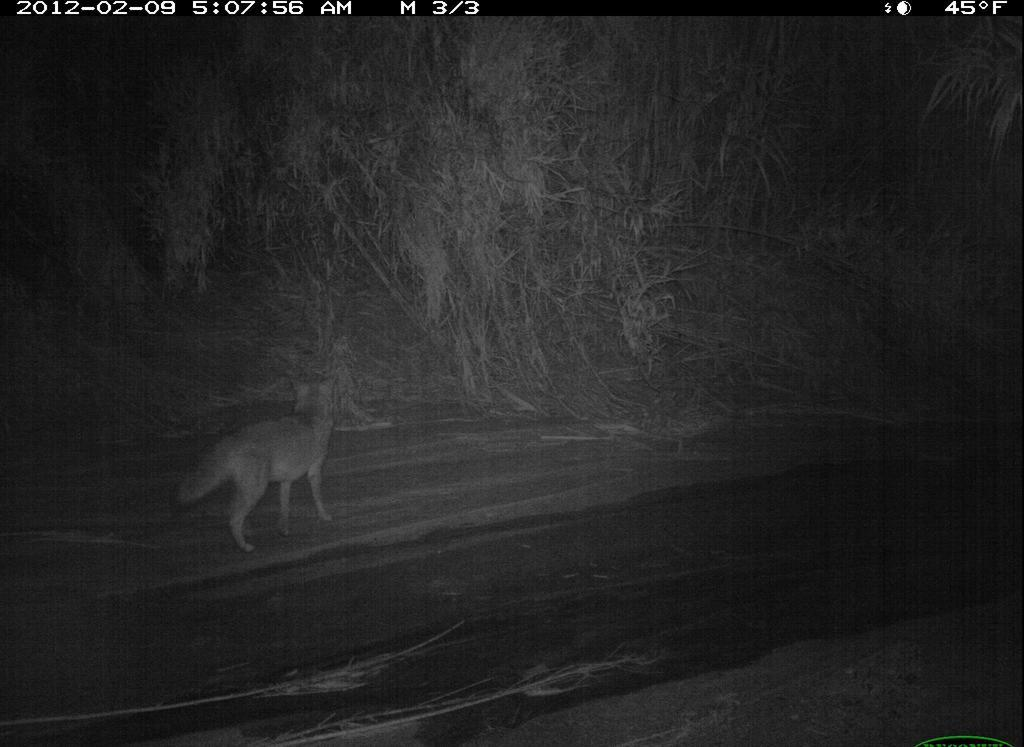coyote: (141, 367, 373, 553)
